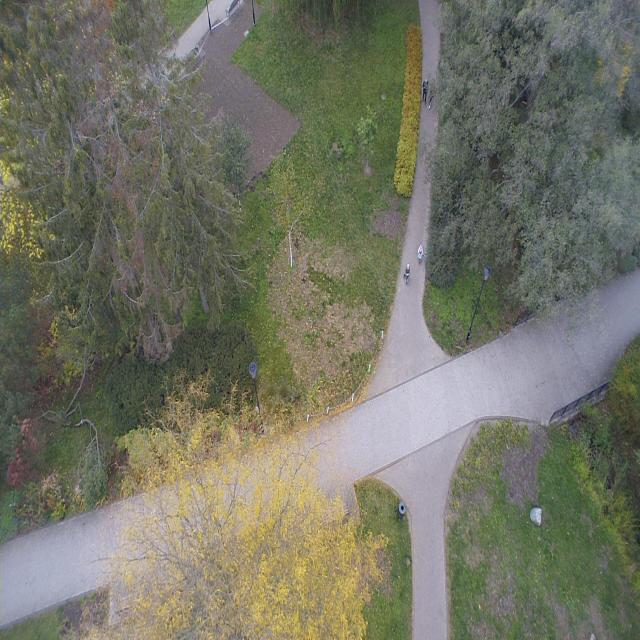p3rson: (421, 78, 429, 104), (403, 263, 410, 279), (418, 244, 423, 258)
